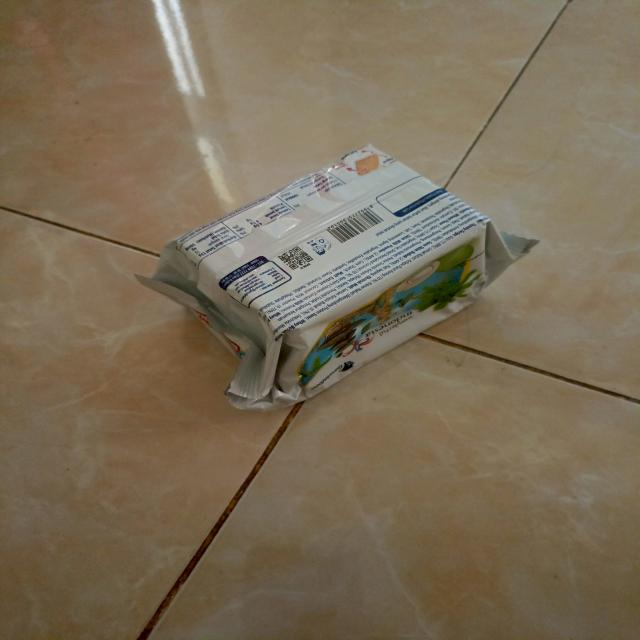gery-salut-coconut: (137, 142, 543, 414)
